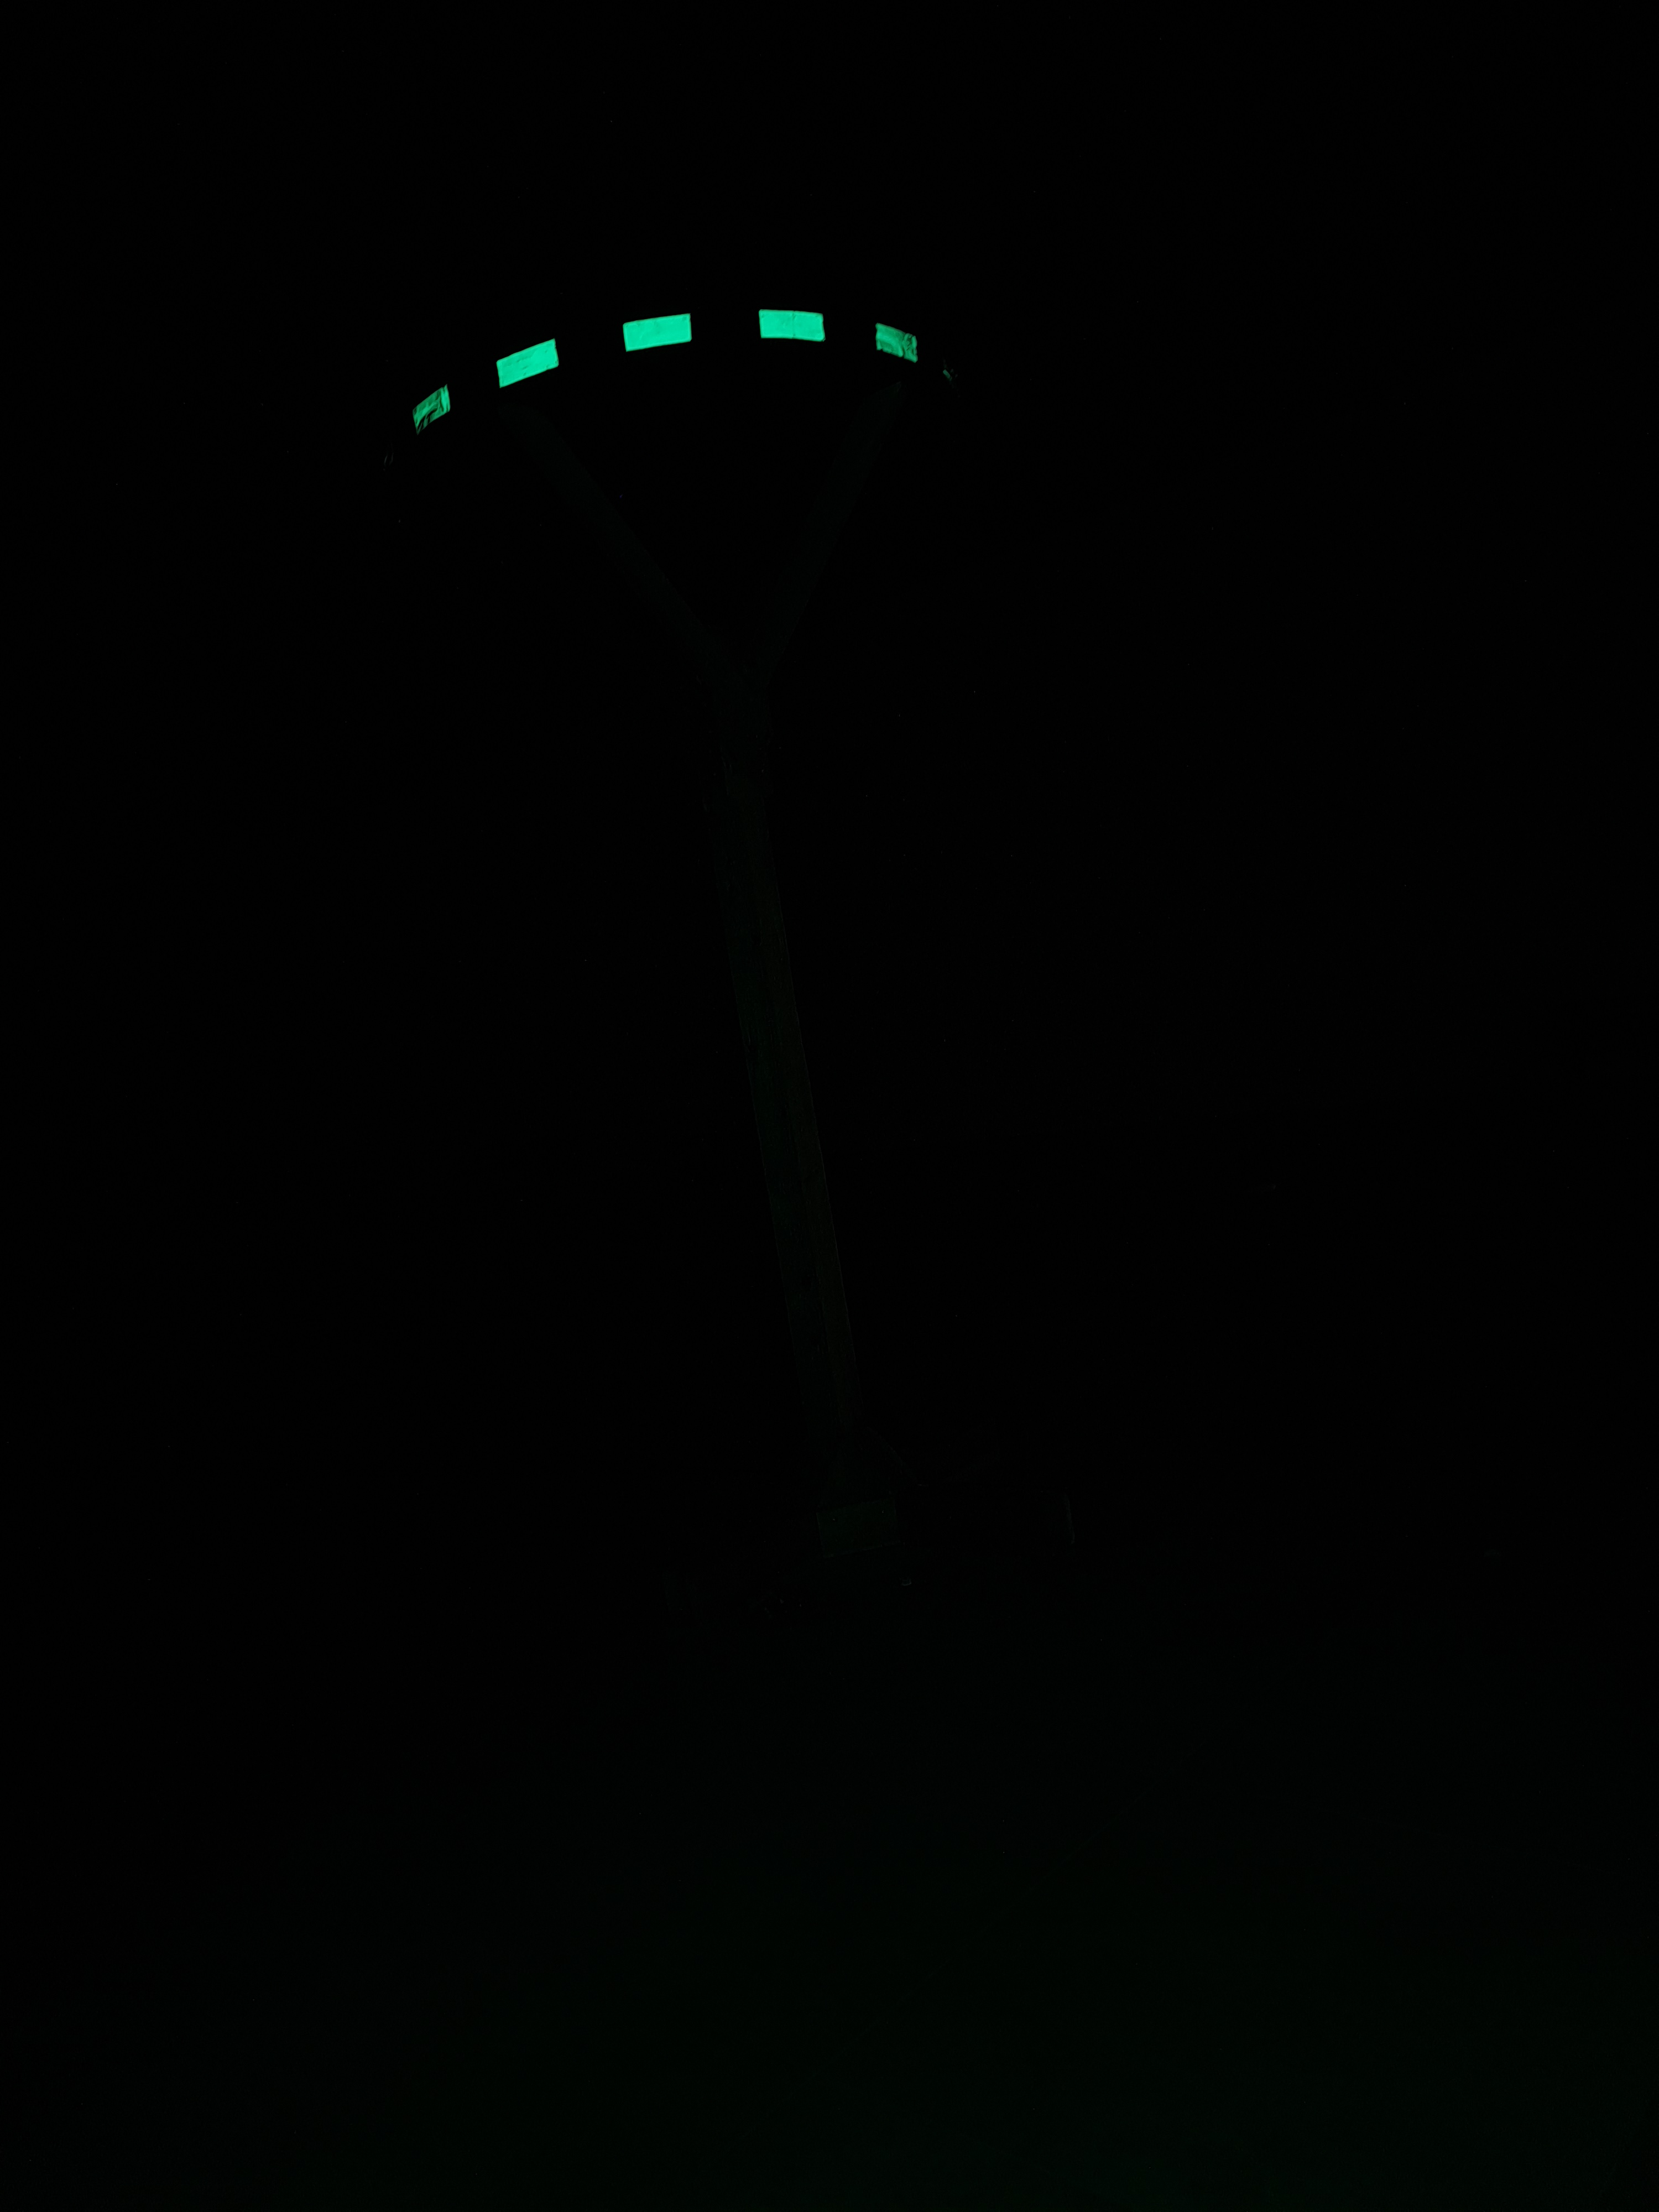hoop: (408, 293, 920, 432)
